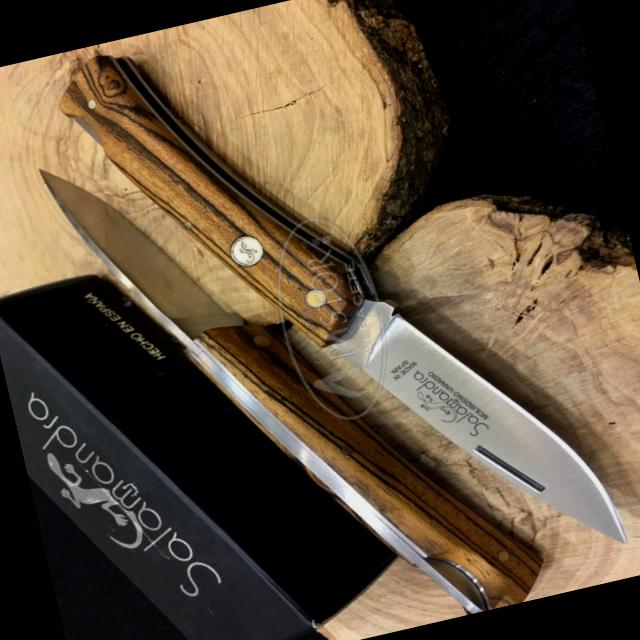knife: (298, 245, 634, 612), (31, 117, 257, 374)
